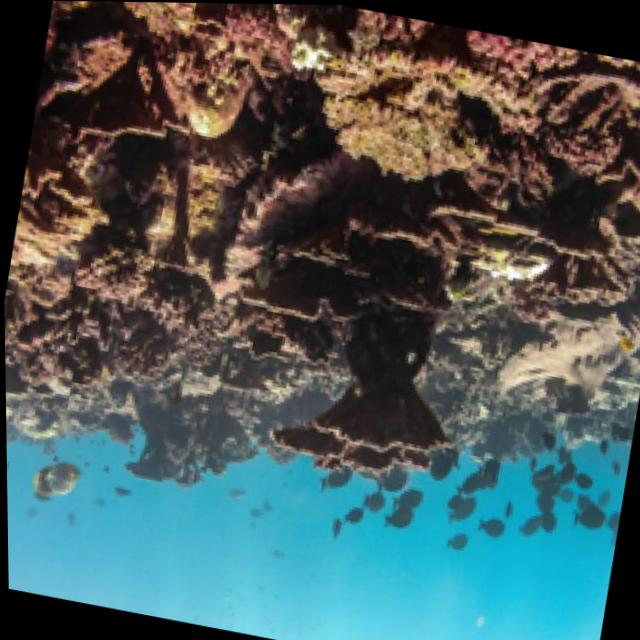Dead Coral: (250, 310, 476, 510), (26, 223, 219, 450)
